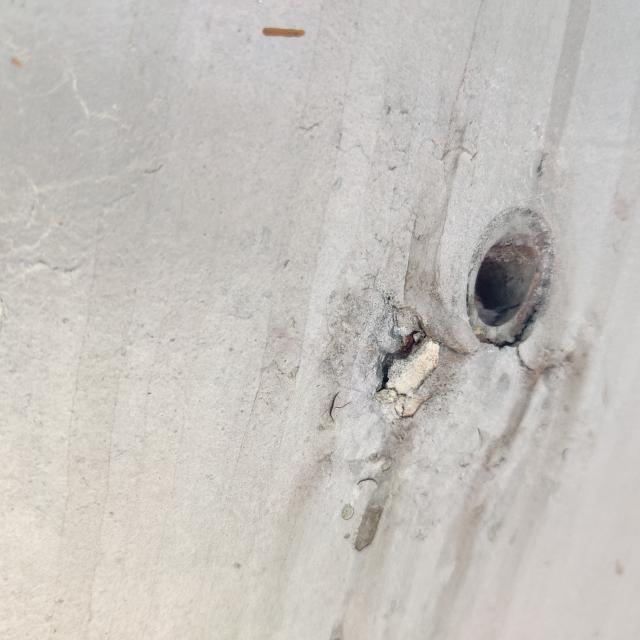crack: (356, 303, 478, 440)
